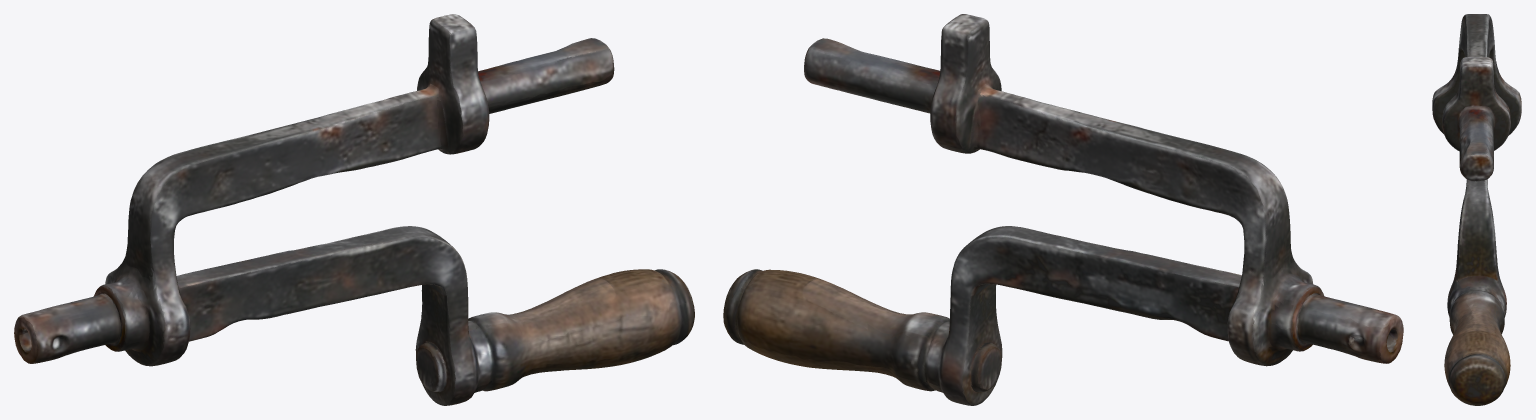
The model's file is crank.glb.
3 views of the same model, side by side, from view 1: azimuth 30°, elevation 25°; view 2: azimuth 150°, elevation 25°; view 3: azimuth 270°, elevation 25° (orthographic). The views are drawn at different scales.
Parts seen in each view (by area): view 1: geometry_0; view 2: geometry_0; view 3: geometry_0.
Part boxes in pixels (left/top/right/bottom): geometry_0: left=14, top=14, right=694, bottom=405; geometry_0: left=723, top=14, right=1403, bottom=405; geometry_0: left=1432, top=14, right=1521, bottom=405.
Bounding box in the file's own units: 0.32 × 0.176 × 0.0521.
1 material, 1 textured.
